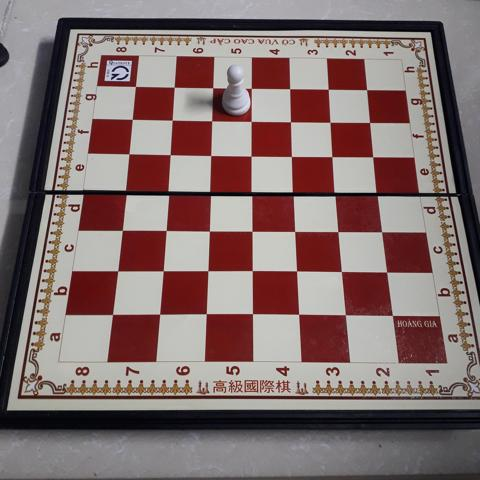xcorner: (128, 78, 145, 95), (158, 220, 174, 237), (289, 222, 306, 238), (163, 145, 179, 162), (367, 148, 384, 164), (245, 112, 261, 129), (245, 80, 261, 97), (106, 306, 122, 322), (153, 306, 169, 322), (200, 306, 216, 322), (247, 307, 263, 323), (293, 307, 309, 323), (340, 307, 356, 323), (386, 308, 402, 324), (110, 261, 126, 277), (156, 262, 172, 278), (201, 262, 217, 278), (246, 263, 262, 279), (291, 263, 307, 279), (336, 263, 352, 279), (381, 264, 397, 280), (114, 220, 130, 236), (202, 221, 218, 237), (246, 221, 262, 237), (333, 222, 349, 238), (376, 223, 392, 239), (118, 181, 134, 197), (161, 182, 177, 198), (203, 182, 219, 198), (246, 183, 262, 199), (288, 183, 304, 199), (330, 184, 346, 200), (372, 184, 388, 200), (122, 145, 138, 161), (204, 146, 220, 162), (245, 147, 261, 163), (286, 147, 302, 163), (327, 148, 343, 164), (125, 111, 141, 127), (165, 111, 181, 127), (205, 112, 221, 128), (285, 113, 301, 129), (324, 114, 340, 130), (364, 114, 380, 130), (167, 79, 183, 95), (206, 80, 222, 96), (283, 81, 299, 97), (322, 82, 338, 98), (360, 82, 376, 98)
